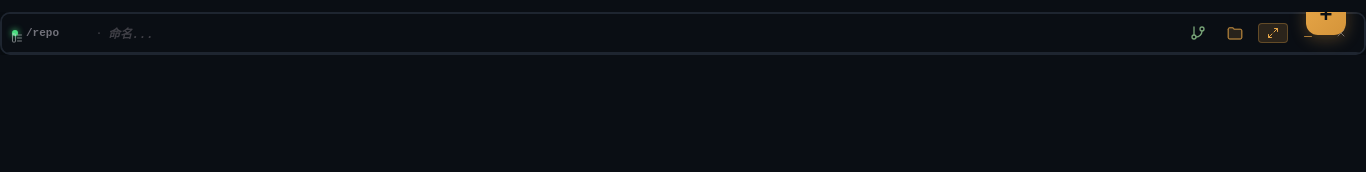
Scenario: M6 批A worktree 浮层 live › rejected → error 显示 message
This screenshot has width=1366, height=172.
Click the button with class "tile-worktree-btn" at (1198, 33), box x1=1184 y1=21 x2=1212 y2=45
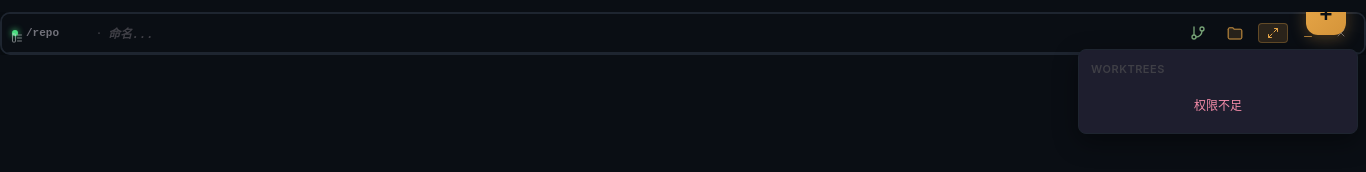
expect the text with class "worktree-popover__error" reads "权限不足": met, box x1=1194 y1=98 x2=1242 y2=113
